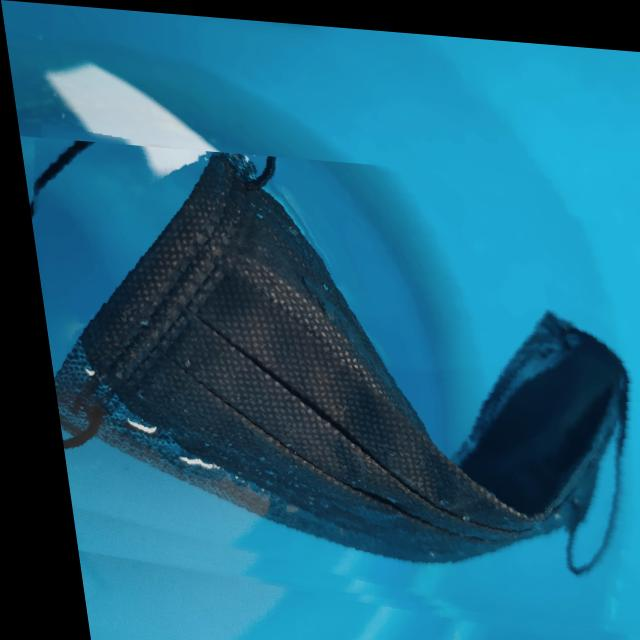mask: (15, 136, 640, 637)
